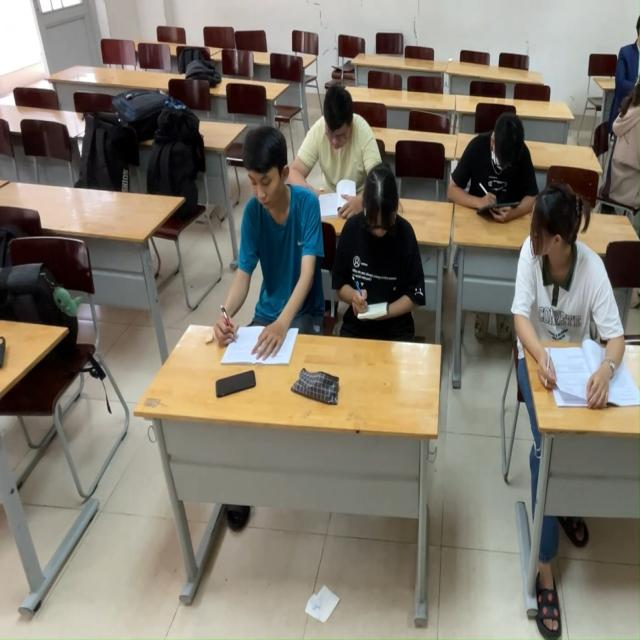read: (198, 126, 311, 363), (333, 158, 437, 359), (449, 98, 537, 240)
